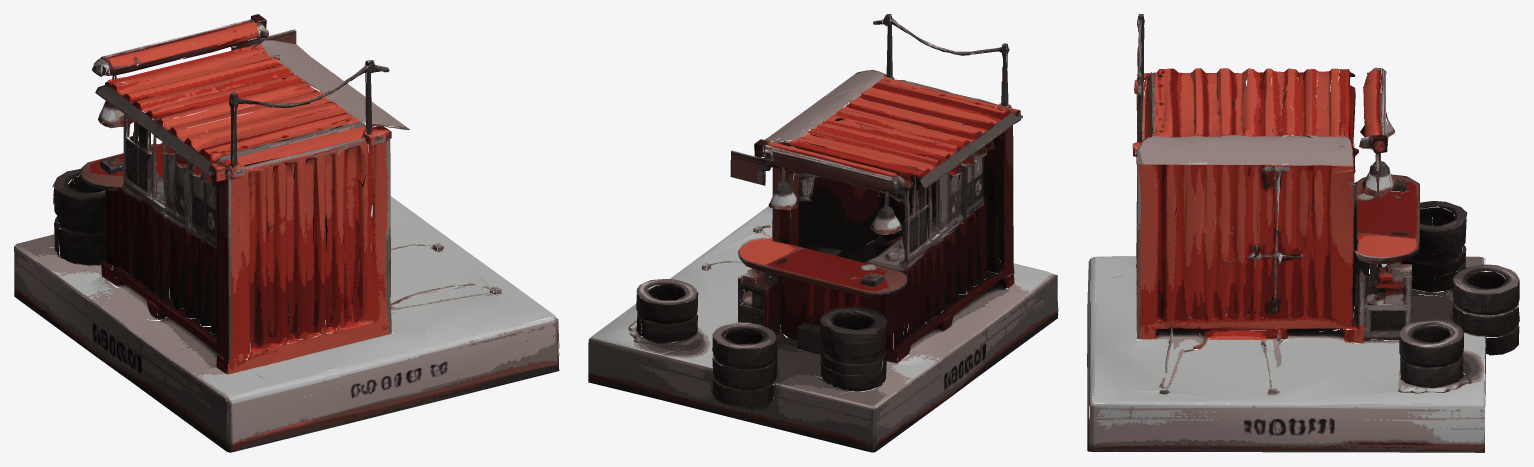
File: trader.glb
The picture shows the model from 3 angles, left to right: view 1: azimuth 30°, elevation 25°; view 2: azimuth 150°, elevation 25°; view 3: azimuth 270°, elevation 25°; orthographic projection. The views are drawn at different scales.
Parts seen in each view (by area): view 1: trader; view 2: trader; view 3: trader.
Part boxes in pixels (x1,y1,x2,y2): trader: (14,14,559,452); trader: (588,14,1058,452); trader: (1087,14,1519,452).
Size of the model in its own units: 2.14 by 2.03 by 2.6.
Materials: 1 (1 with a texture image).
